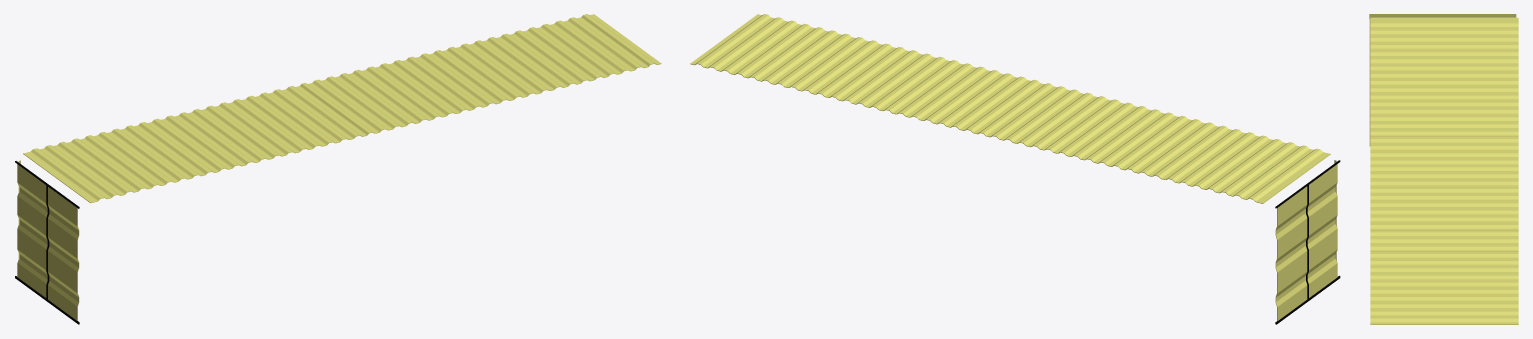
File: rear-top-sprayfoam.glb
3 renders of one model, left to right at view 1: azimuth 30°, elevation 25°; view 2: azimuth 150°, elevation 25°; view 3: azimuth 270°, elevation 25°, orthographic. The views are drawn at different scales.
Visible parts, largest first — view 1: 40FT Sprayfoam_Ceiling, 40FT Sprayfoam_RearTop; view 2: 40FT Sprayfoam_Ceiling, 40FT Sprayfoam_RearTop; view 3: 40FT Sprayfoam_Ceiling, 40FT Sprayfoam_RearTop.
Boxes of the visible parts, bbox=[...] form: 40FT Sprayfoam_Ceiling: bbox=[23, 14, 661, 203]; 40FT Sprayfoam_RearTop: bbox=[15, 160, 79, 324]; 40FT Sprayfoam_Ceiling: bbox=[690, 14, 1330, 203]; 40FT Sprayfoam_RearTop: bbox=[1275, 160, 1340, 324]; 40FT Sprayfoam_Ceiling: bbox=[1370, 17, 1518, 324]; 40FT Sprayfoam_RearTop: bbox=[1369, 14, 1516, 146].
Size of the model in its own units: 11.8 by 2.37 by 2.38.
